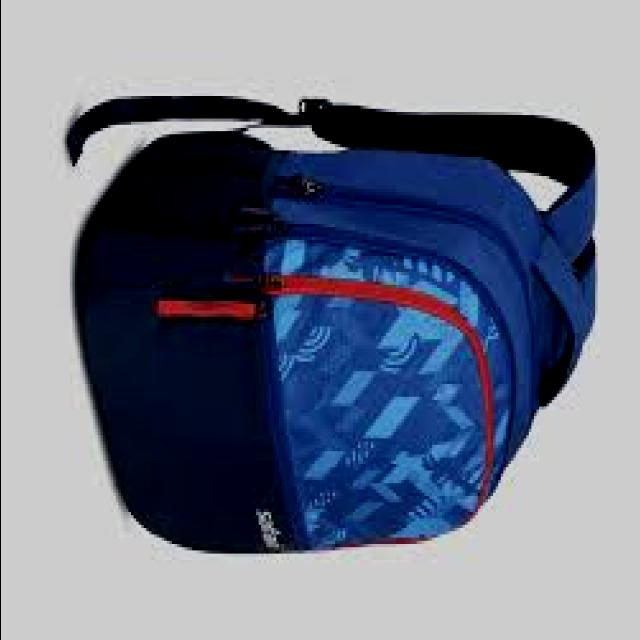backpack: (67, 94, 600, 555)
